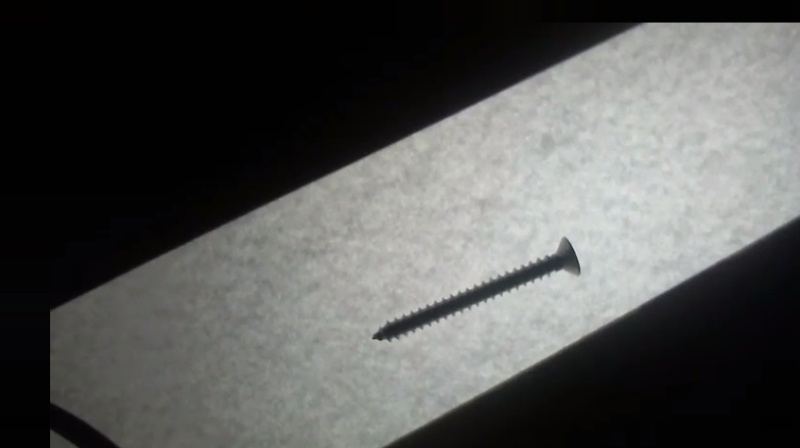S002: (367, 232, 586, 346)
